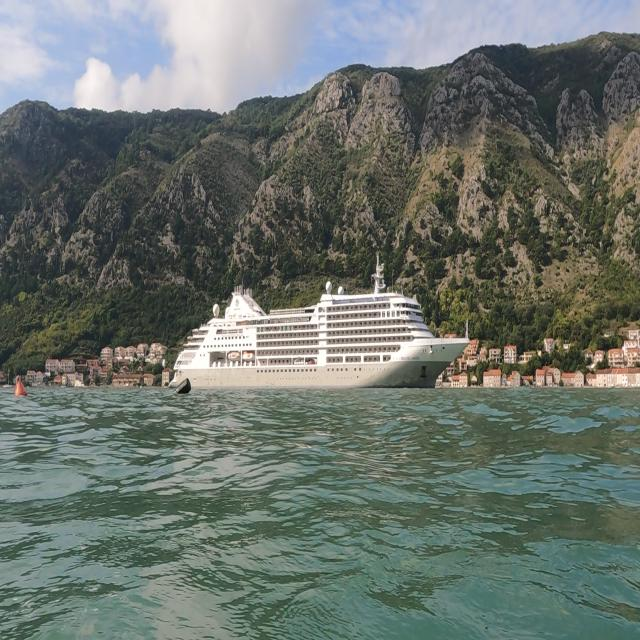boat: (168, 250, 472, 394)
buoy: (11, 369, 29, 405), (170, 377, 196, 401)
